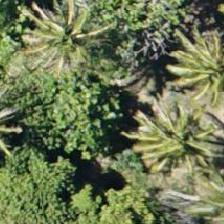coconut_tree: (126, 95, 216, 185), (26, 0, 116, 90), (172, 19, 223, 109)
